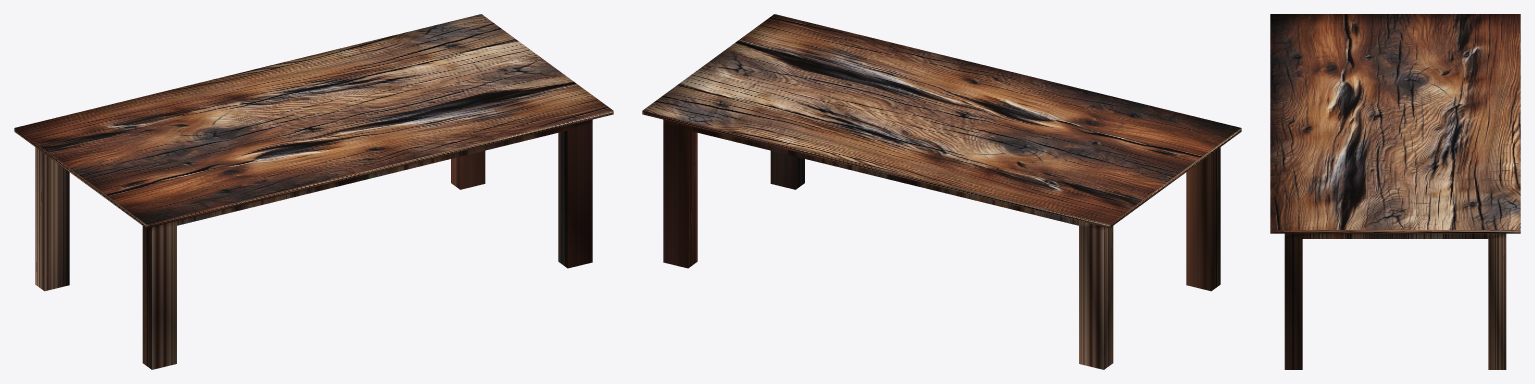
File: DinnerTable.obj
The picture shows the model from 3 angles, left to right: view 1: azimuth 30°, elevation 25°; view 2: azimuth 150°, elevation 25°; view 3: azimuth 270°, elevation 25°; orthographic projection. The views are drawn at different scales.
Parts seen in each view (by area): view 1: kitchen_table; view 2: kitchen_table; view 3: kitchen_table.
Part boxes in pixels (<box>): kitchen_table: <box>14,14,613,369</box>; kitchen_table: <box>642,14,1241,369</box>; kitchen_table: <box>1270,14,1520,369</box>.
Size of the model in its own units: 63.81 by 20.13 by 31.24.
